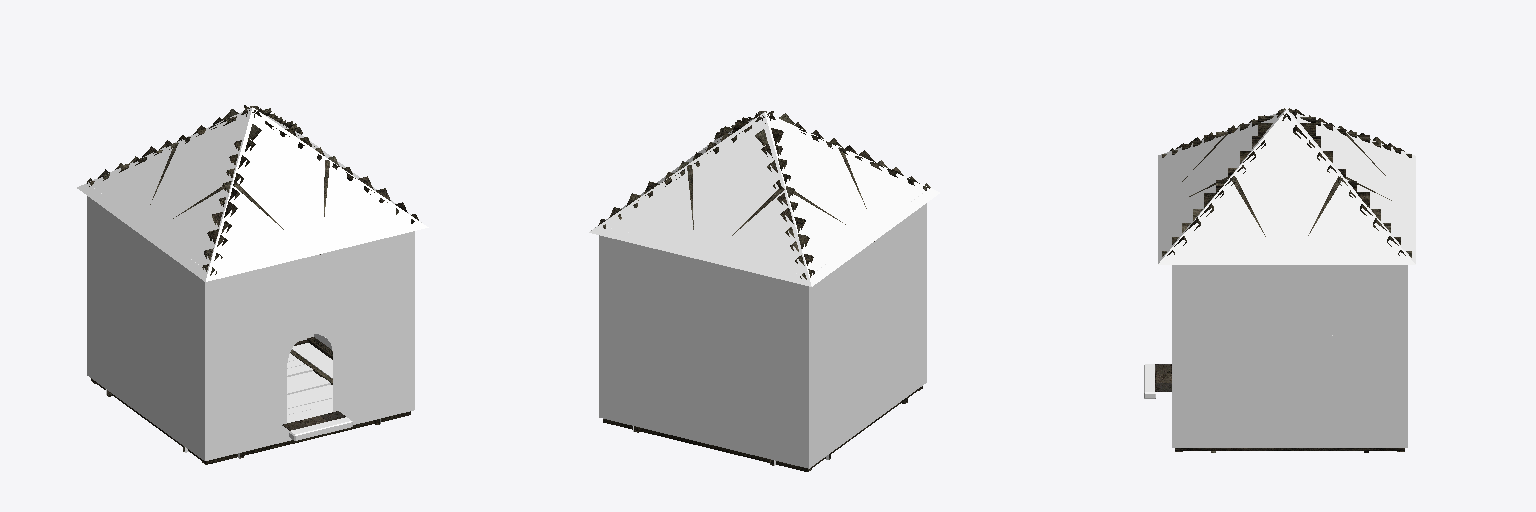
3 views of the same model, side by side, from view 1: azimuth 30°, elevation 25°; view 2: azimuth 150°, elevation 25°; view 3: azimuth 270°, elevation 25° (orthographic).
Visible parts, largest first — view 1: mesh7, mesh2, mesh1, mesh8, mesh0; view 2: mesh7, mesh2, mesh1; view 3: mesh7, mesh2, mesh1.
Boxes of the visible parts, <box> form: mesh7: <box>87,196,414,460</box>; mesh2: <box>77,107,428,281</box>; mesh1: <box>87,105,418,464</box>; mesh8: <box>287,343,332,417</box>; mesh0: <box>287,407,352,440</box>; mesh7: <box>599,203,926,468</box>; mesh2: <box>589,112,939,286</box>; mesh1: <box>598,111,930,471</box>; mesh7: <box>1172,265,1407,447</box>; mesh2: <box>1158,110,1415,264</box>; mesh1: <box>1162,108,1411,452</box>.
Bounding box in the file's own units: 7.88 × 9.84 × 8.29.
9 materials, 2 textured.